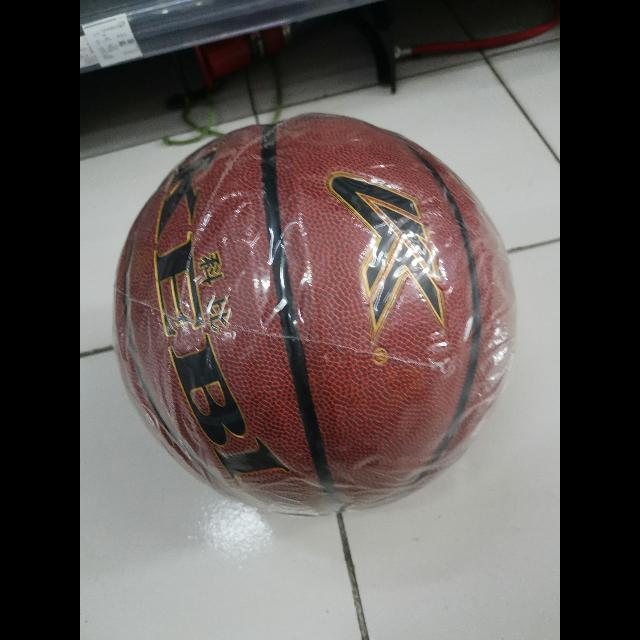basketball: (115, 113, 513, 511)
